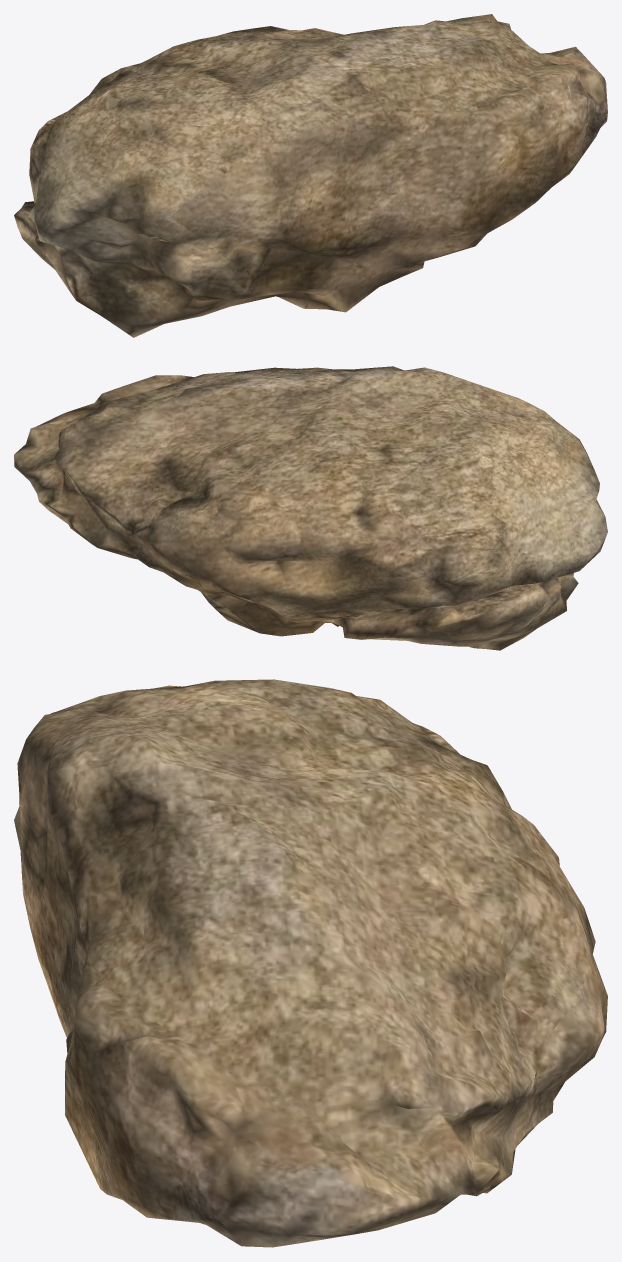
The model's file is rock_namaqualand_boulder_05.glb.
3 renders of one model, top to bottom at view 1: azimuth 30°, elevation 25°; view 2: azimuth 150°, elevation 25°; view 3: azimuth 270°, elevation 25°, orthographic. The views are drawn at different scales.
Parts seen in each view (by area): view 1: namaqualand_boulder_05; view 2: namaqualand_boulder_05; view 3: namaqualand_boulder_05.
Boxes of the visible parts, x1,y1,x2,y2 form: namaqualand_boulder_05: [14, 14, 607, 337]; namaqualand_boulder_05: [14, 366, 607, 650]; namaqualand_boulder_05: [14, 679, 607, 1247].
Size of the model in its own units: 1.36 by 0.5338 by 0.7462.
1 material, 1 textured.
